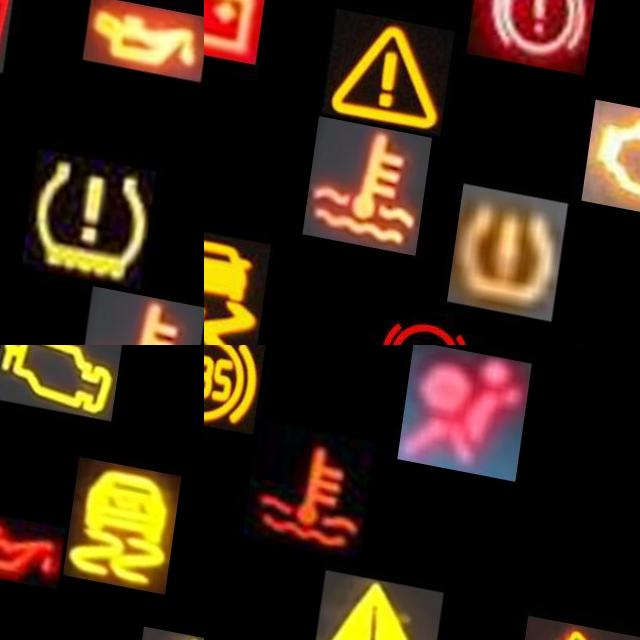Central Warning lamp: (331, 0, 461, 122), (325, 559, 454, 640)
Engine cooling system: (253, 413, 384, 549), (316, 108, 442, 243), (94, 268, 204, 345)
